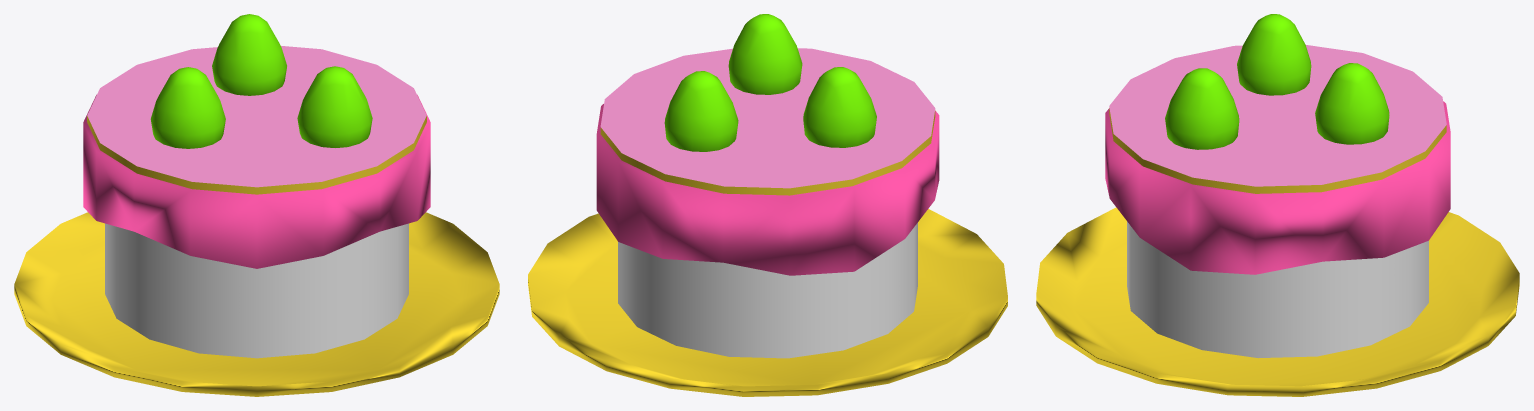
The model's file is Toy223.fbx.
3 renders of one model, left to right at view 1: azimuth 30°, elevation 25°; view 2: azimuth 150°, elevation 25°; view 3: azimuth 270°, elevation 25°, orthographic.
Visible parts, largest first — view 1: Toy223; view 2: Toy223; view 3: Toy223.
Boxes of the visible parts, <box> form: Toy223: <box>14,14,499,396</box>; Toy223: <box>528,14,1007,396</box>; Toy223: <box>1036,14,1519,396</box>.
Size of the model in its own units: 0.1431 by 0.085 by 0.1431.
